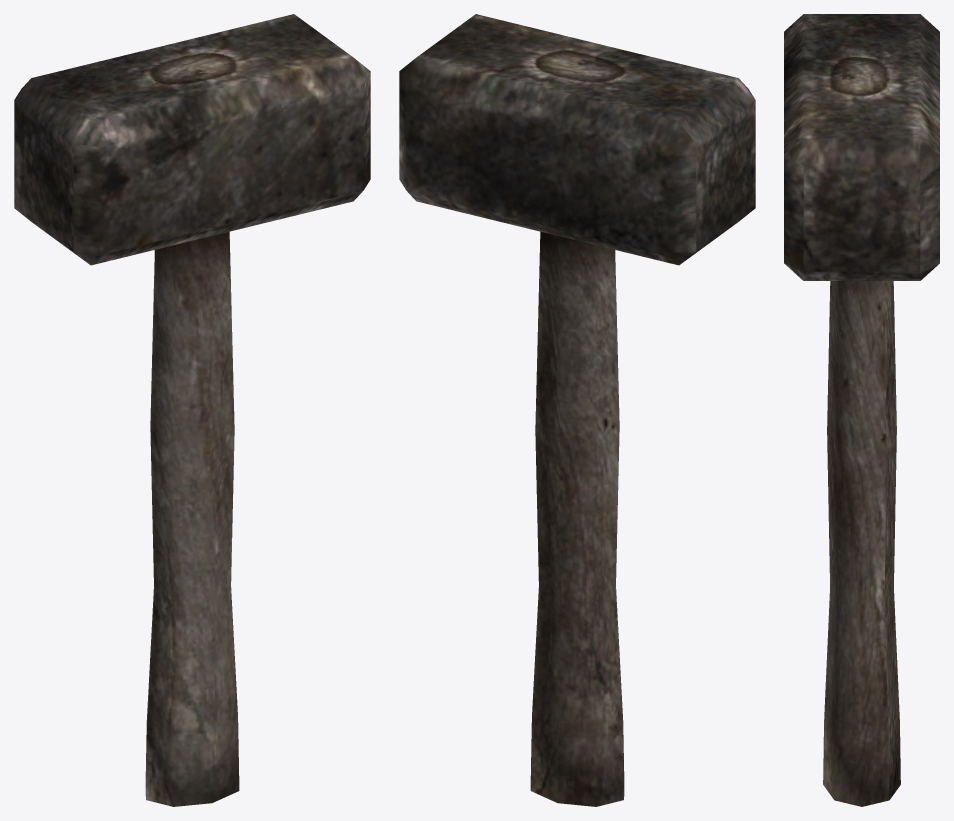
Rendered from stone_hammer.dae.
3 views of the same model, side by side, from view 1: azimuth 30°, elevation 25°; view 2: azimuth 150°, elevation 25°; view 3: azimuth 270°, elevation 25° (orthographic).
Parts seen in each view (by area): view 1: polySurface50; view 2: polySurface50; view 3: polySurface50.
Boxes of the visible parts, x1=… form: polySurface50: x1=14, y1=14, x2=370, y2=806; polySurface50: x1=399, y1=14, x2=755, y2=806; polySurface50: x1=784, y1=14, x2=939, y2=806.
Size of the model in its own units: 0.2156 by 0.51 by 0.0998.
